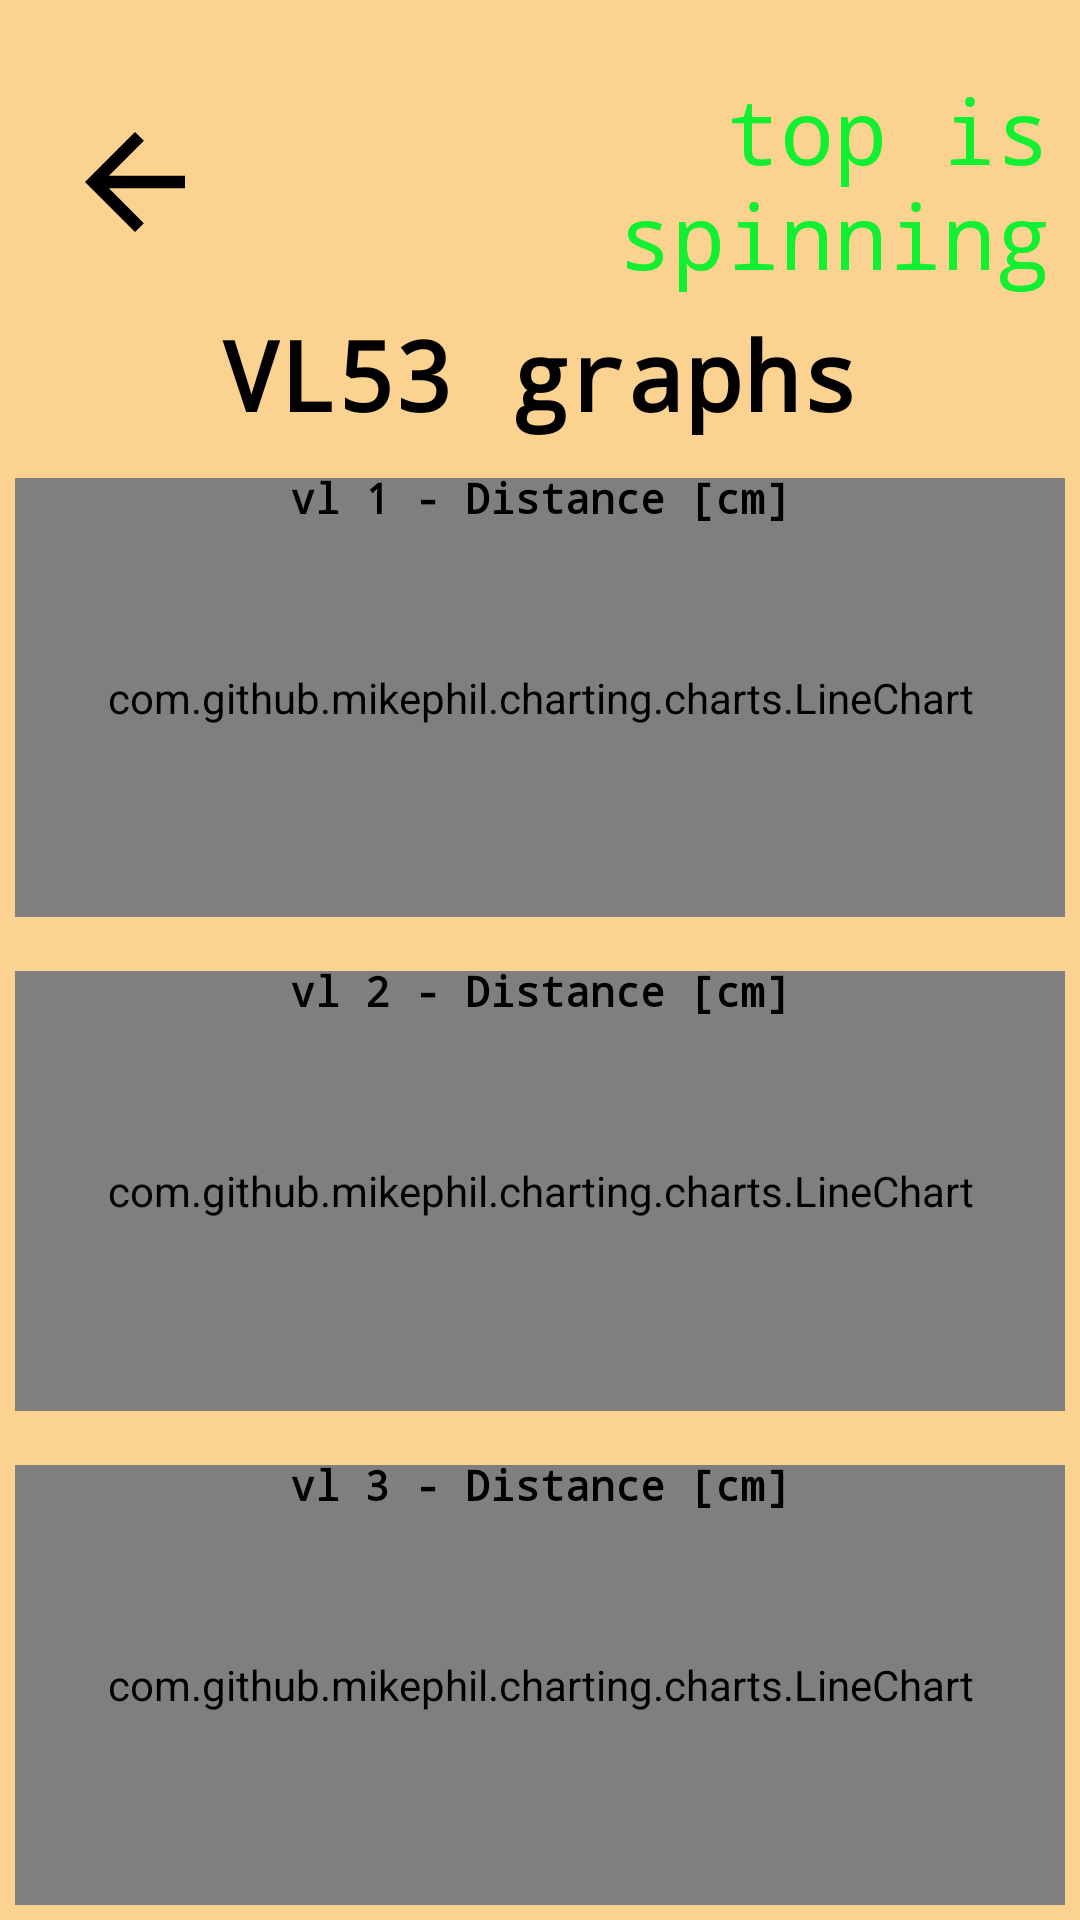

Screen size 1080px×1920px. Icon name, then its center in pixels as (x,y):
back: (135,182)
